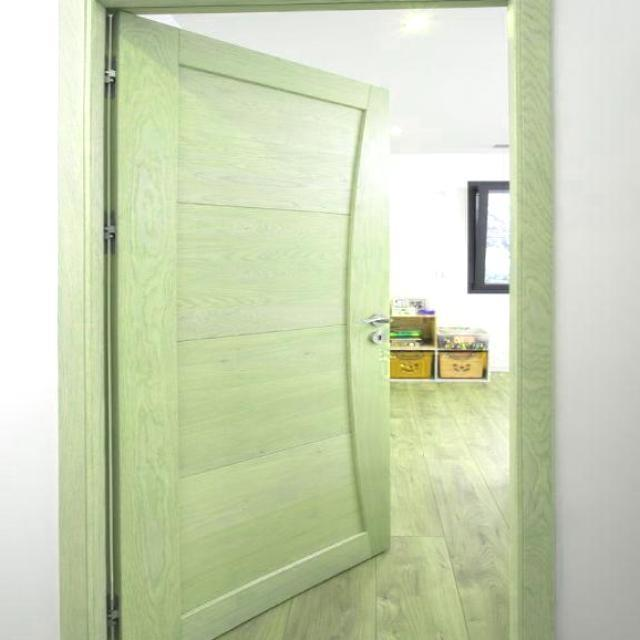door: (104, 10, 392, 637)
